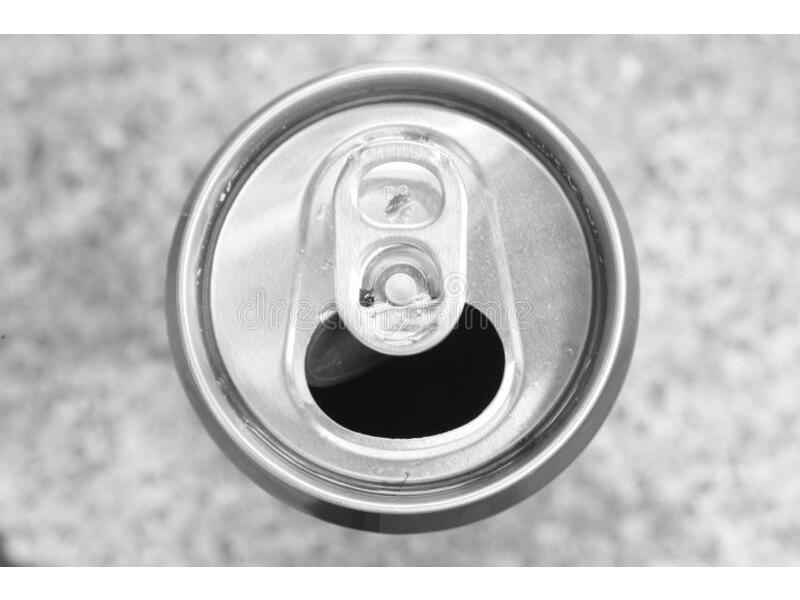can: (157, 59, 655, 528)
